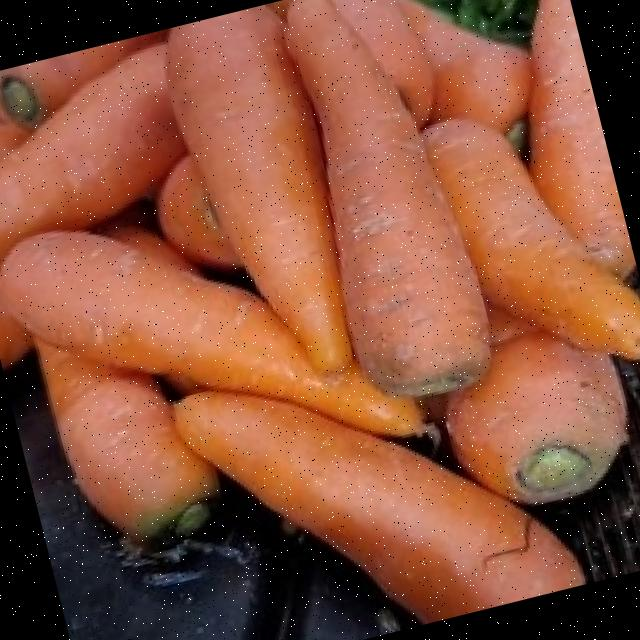carrot: (174, 390, 584, 624), (1, 229, 413, 431), (285, 0, 488, 392), (171, 4, 353, 368), (425, 118, 640, 357), (0, 45, 184, 269), (37, 340, 216, 538), (448, 308, 628, 499)
